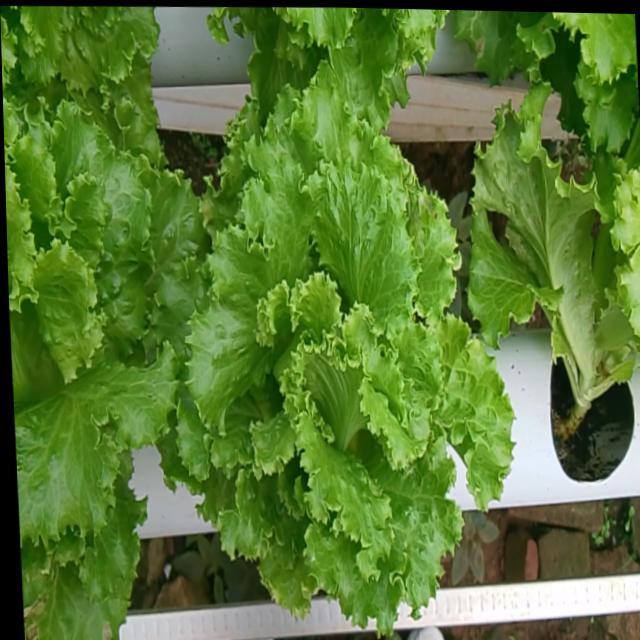Mature: (180, 84, 517, 629), (5, 103, 206, 551)
